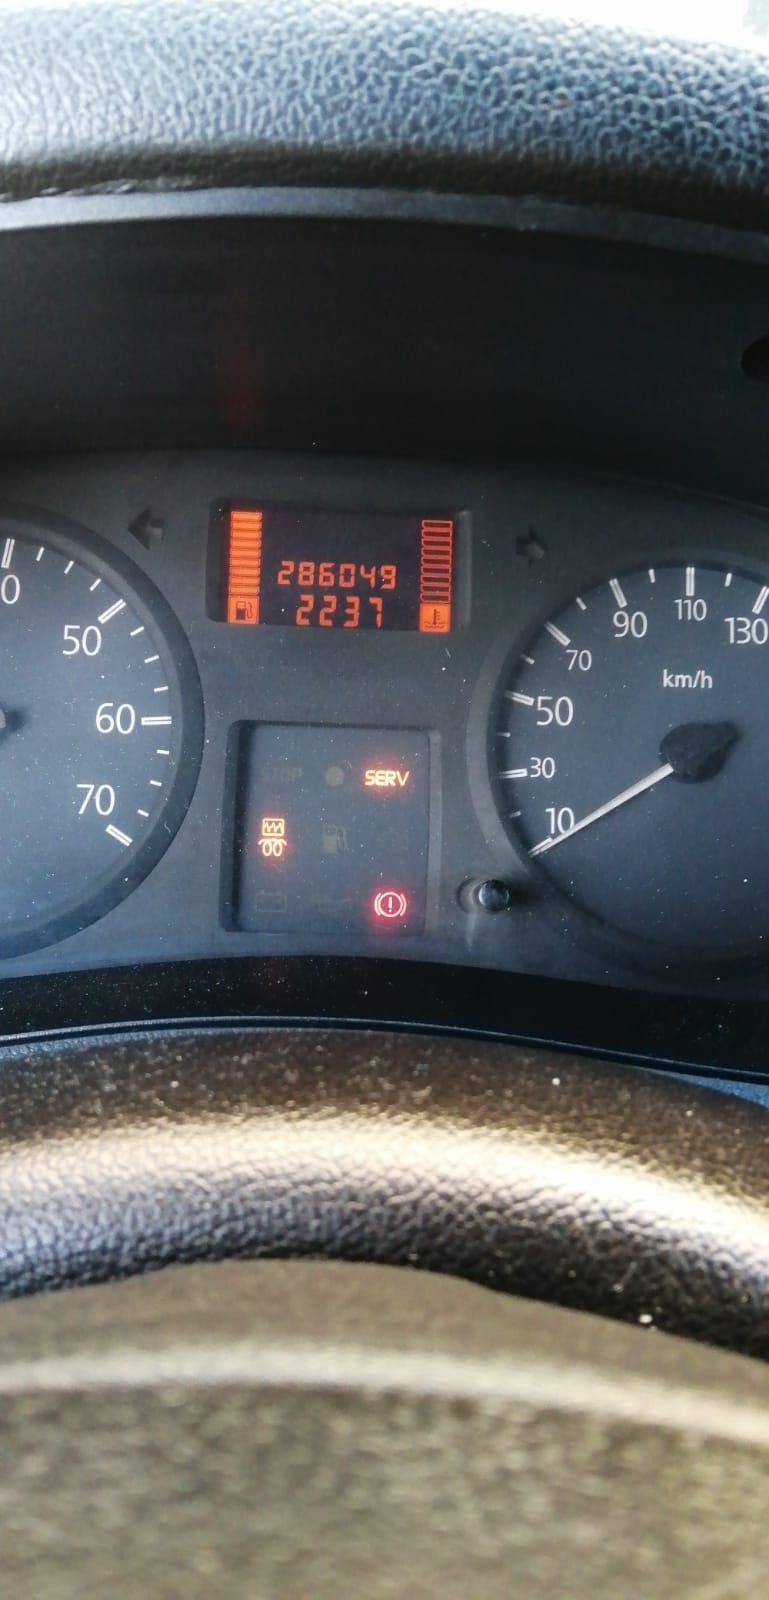0: (338, 562, 355, 587)
2: (295, 593, 313, 624), (318, 594, 336, 626), (276, 560, 294, 585)
3: (342, 596, 359, 627)
4: (359, 564, 376, 588)
6: (318, 562, 334, 586)
7: (367, 596, 382, 628)
8: (297, 561, 314, 586)
9: (379, 564, 396, 589)
odometer: (224, 506, 458, 634)
